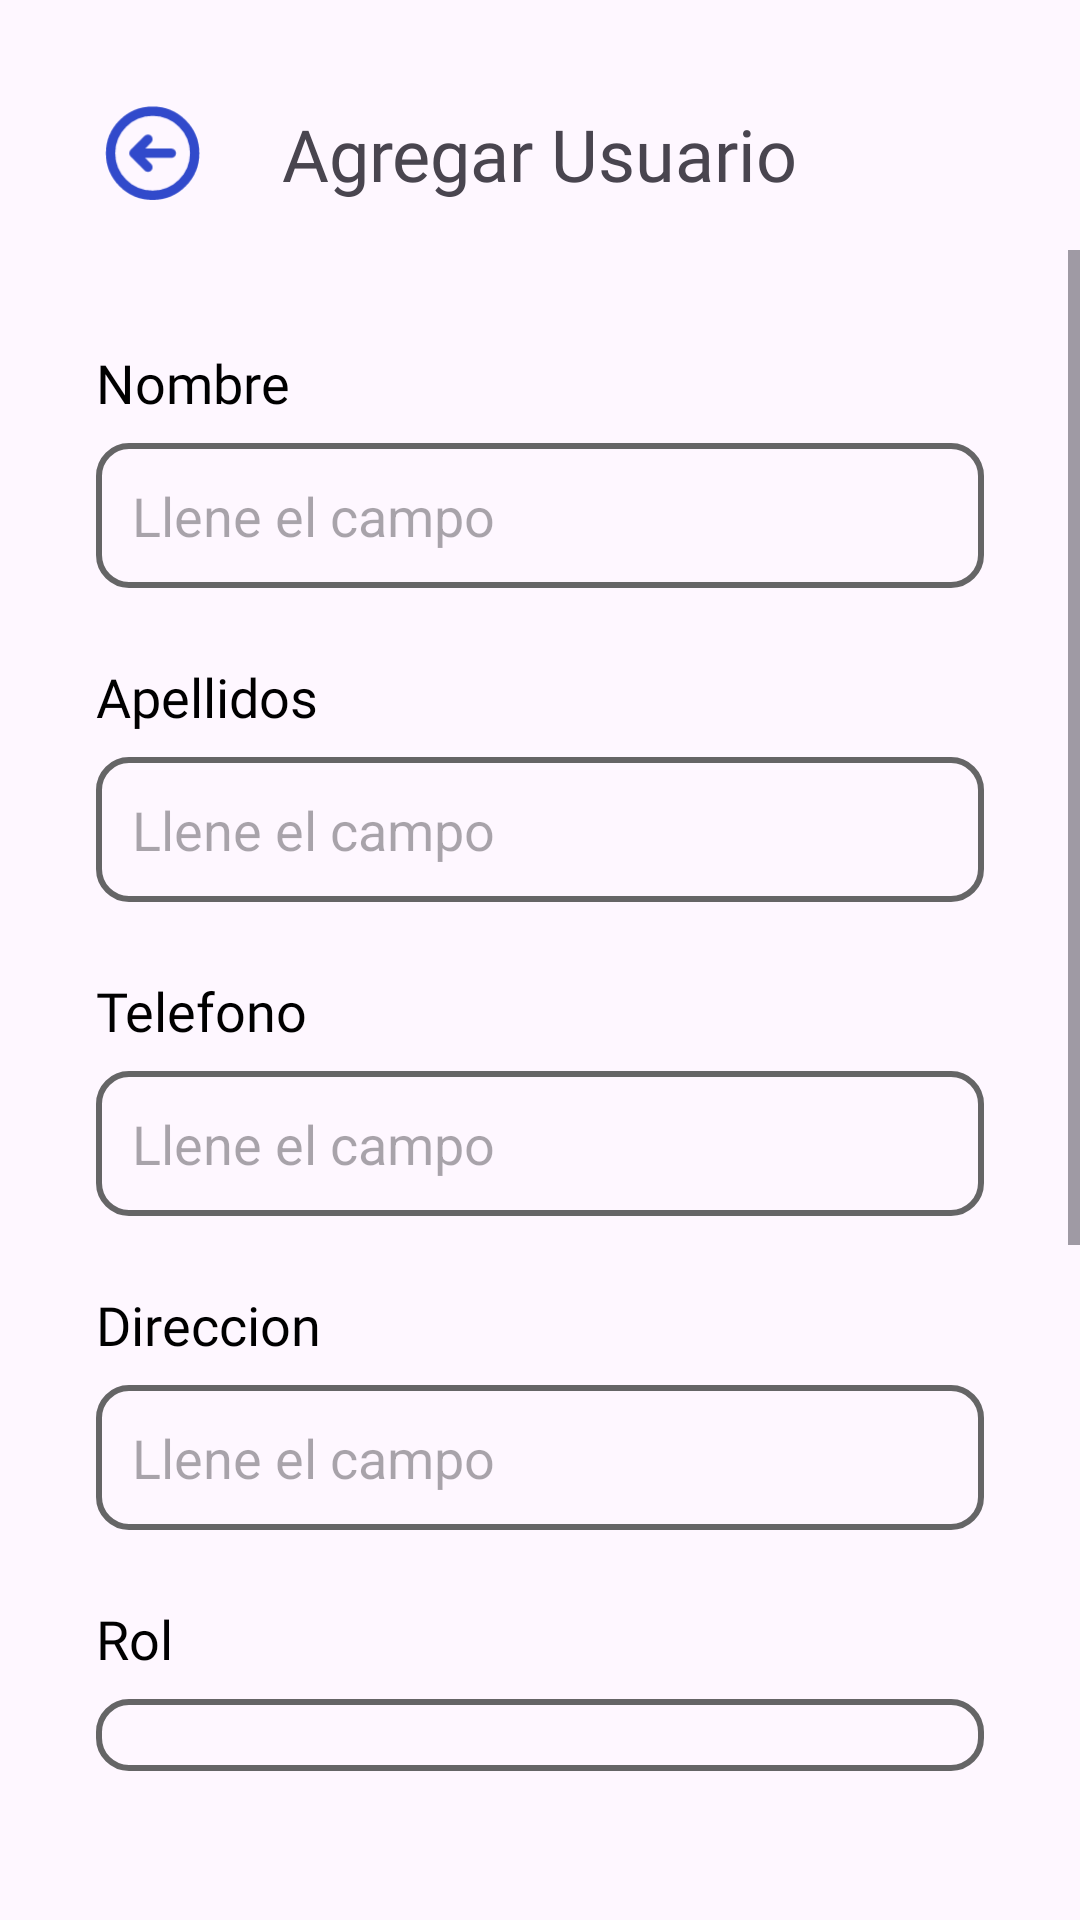

Screen size 1080 × 1920. Icon name, then its box in pixels as (x1, y1, x2, y2):
arrow circle left: (105, 106, 200, 200)
